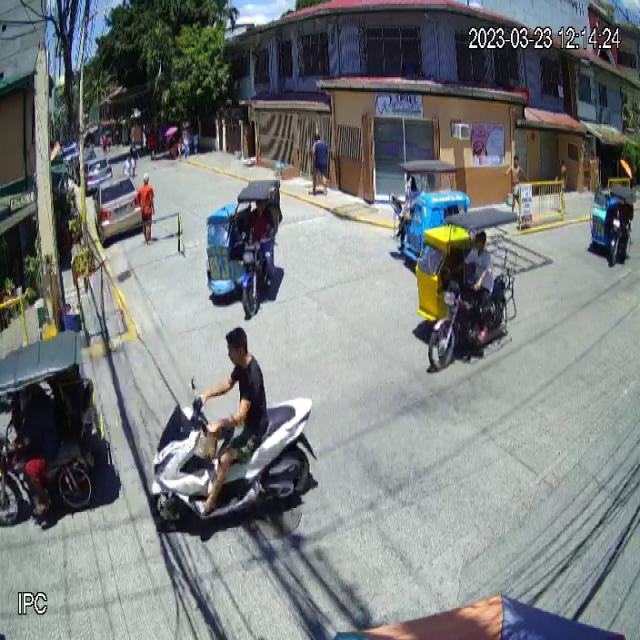Car: (93, 173, 144, 244)
Motorcycle: (149, 374, 317, 537)
Tricycle: (0, 327, 113, 526), (418, 206, 520, 376), (205, 175, 282, 320), (390, 160, 470, 272), (590, 178, 633, 268)
